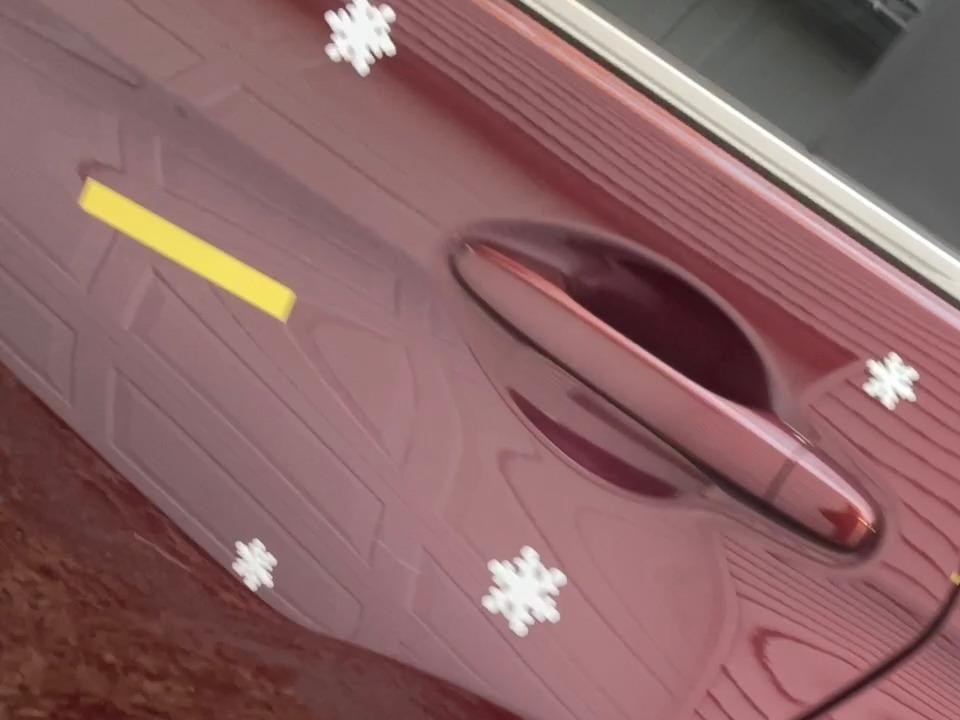dent: (479, 536, 579, 647), (309, 0, 413, 88), (855, 344, 927, 420), (221, 529, 287, 600)
scratch: (79, 169, 309, 331)
